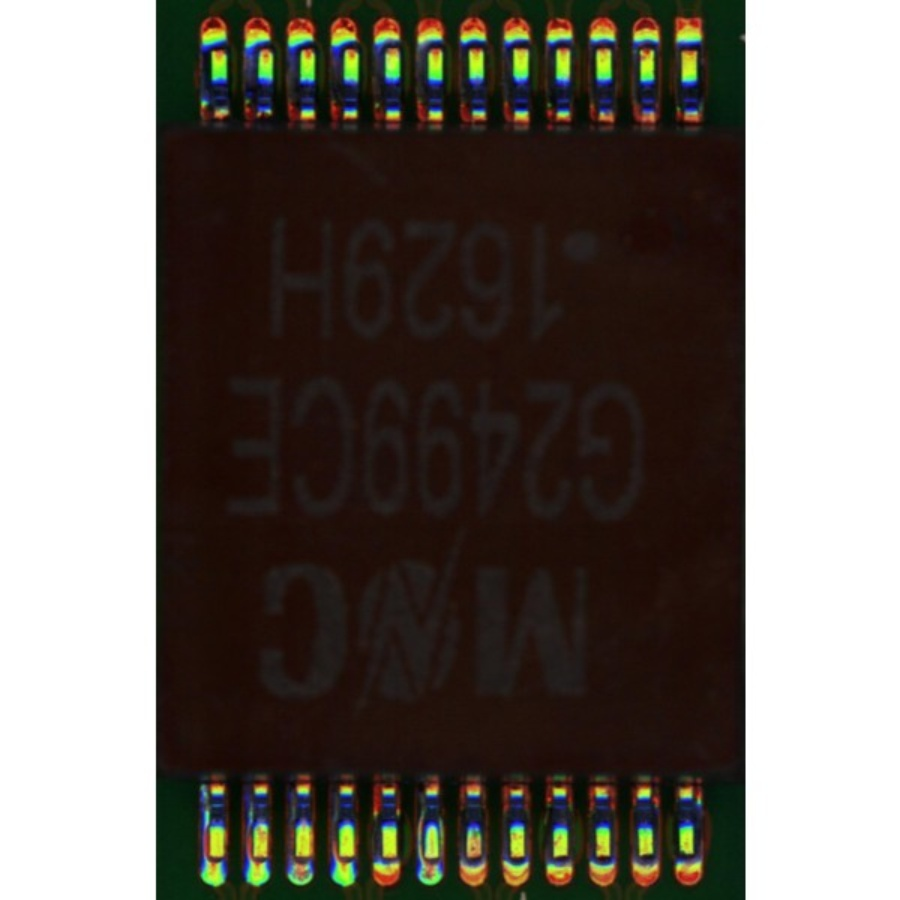Bad_podu: (209, 845, 221, 873), (340, 846, 352, 871), (297, 845, 307, 871), (252, 850, 266, 868), (424, 854, 437, 871)
Bad_qiaojiao: (202, 797, 214, 856), (244, 796, 253, 856), (417, 798, 425, 857)
